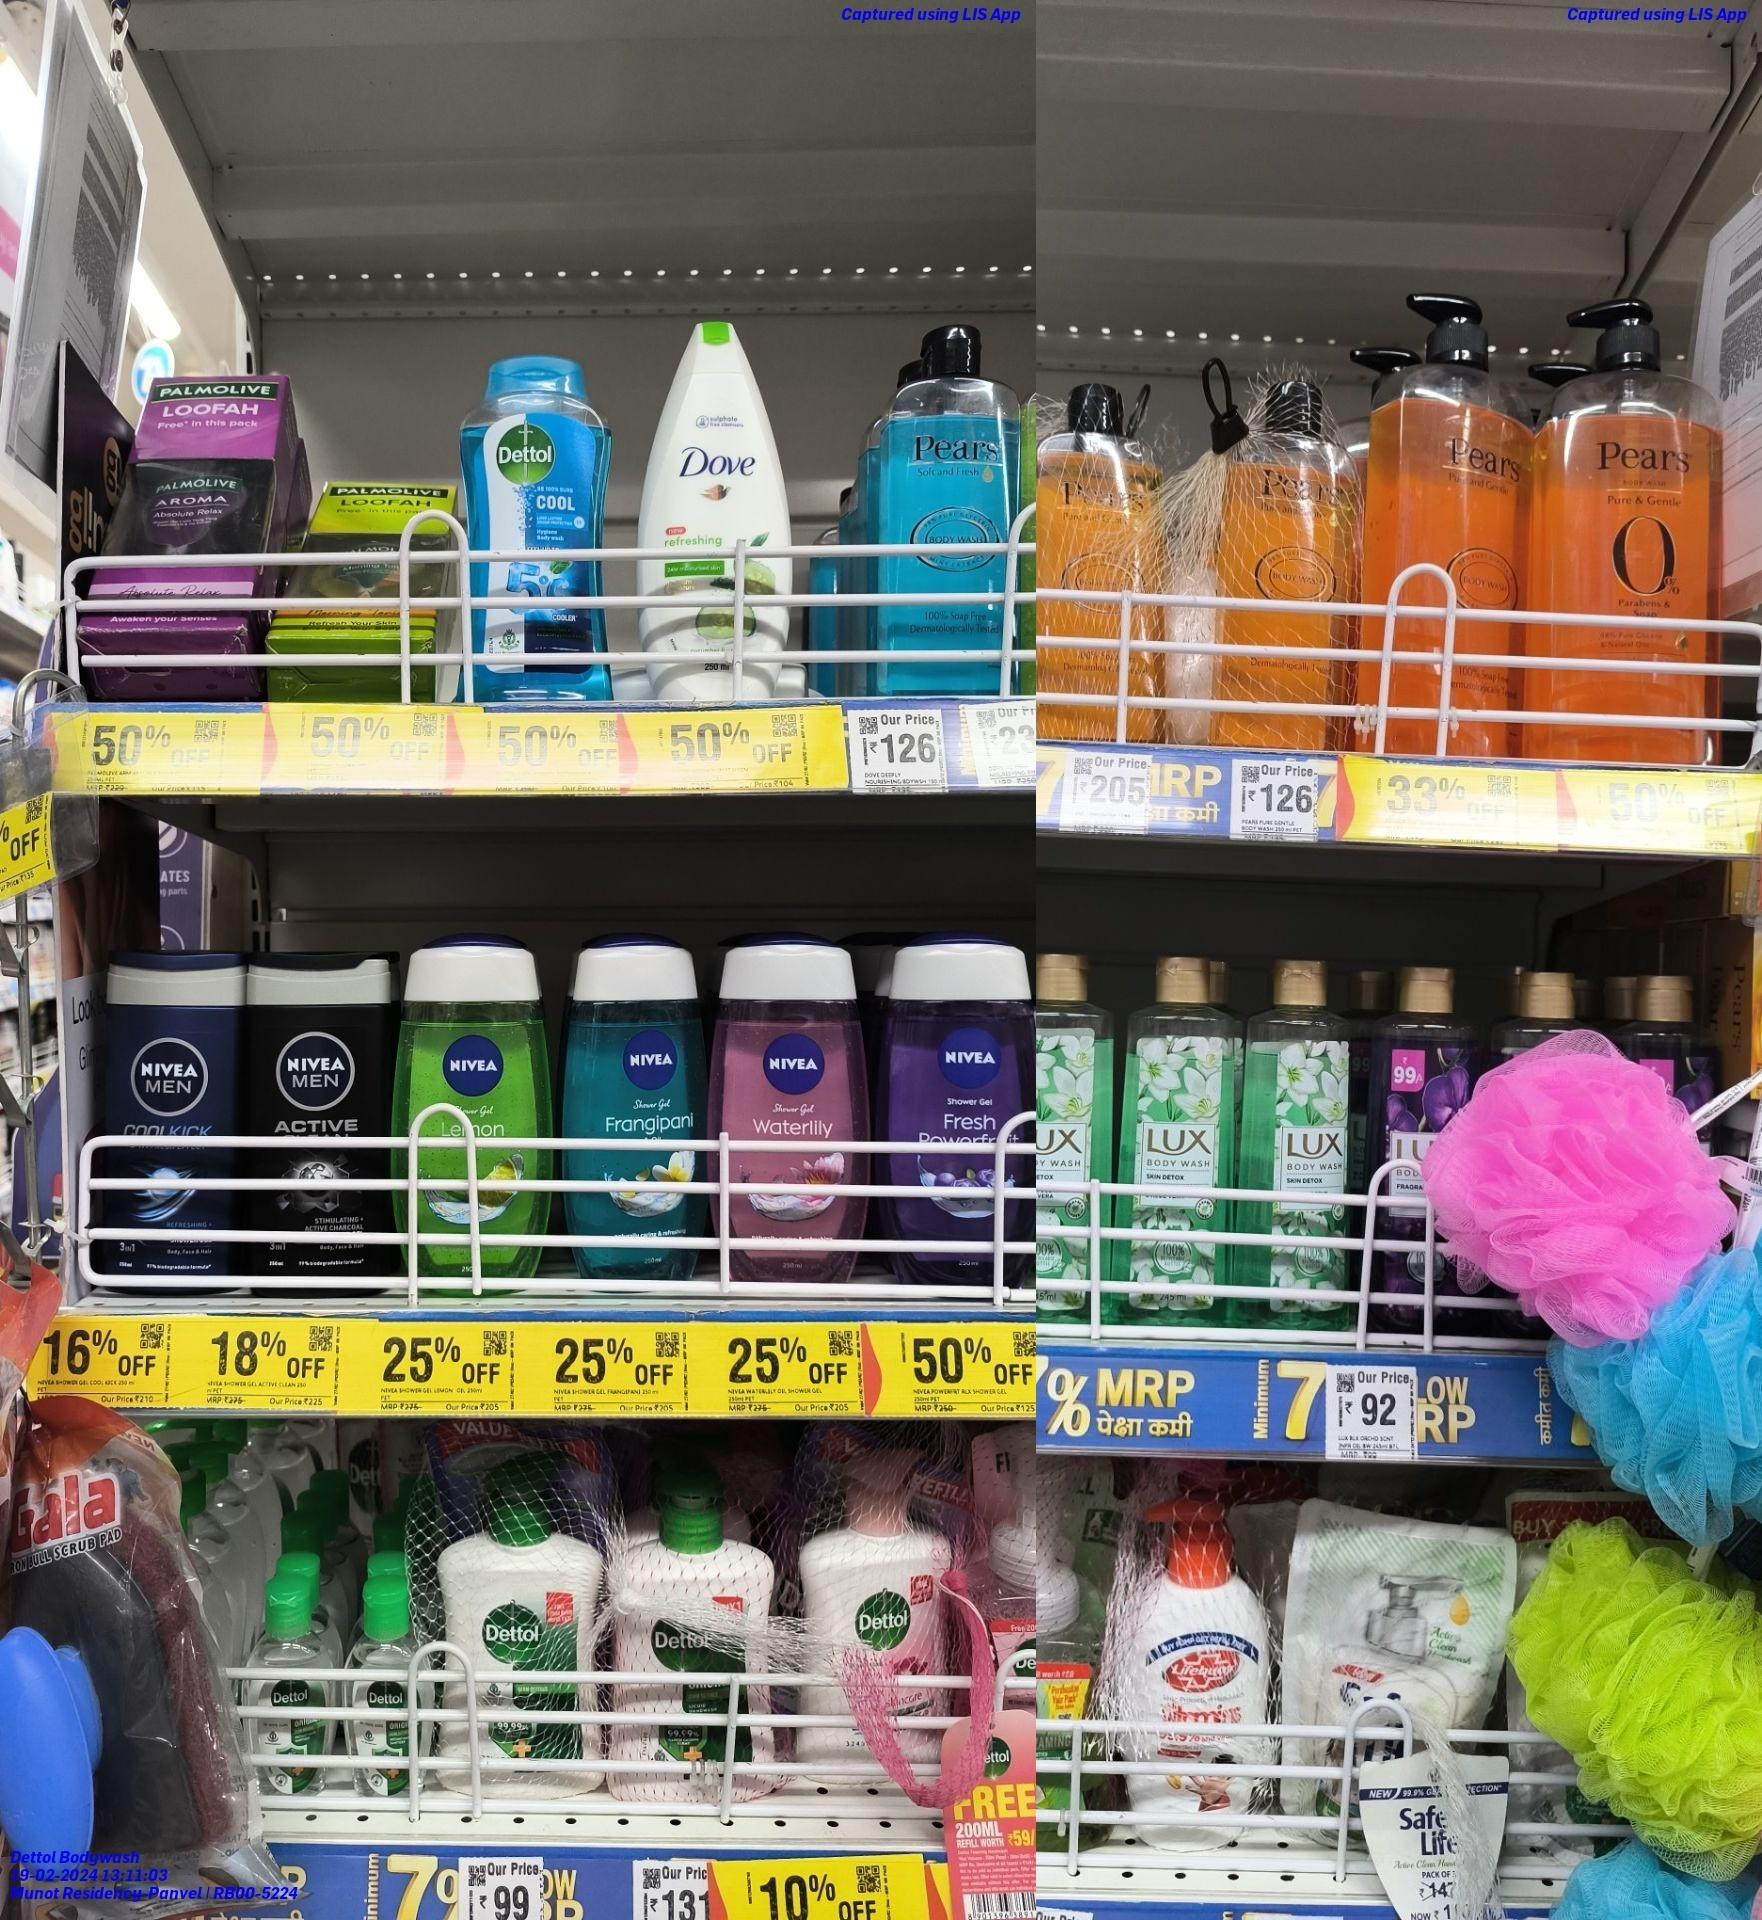Dettol_Bodywash_Cool: (470, 353, 607, 707)
Dove_Refreshing_Body_Wash_250ML: (647, 319, 787, 706)
Lux_Body_Wash_Skin_Detox_Freesia_Scent_and_Alove_Vera_245ML: (1108, 948, 1234, 1328), (1235, 948, 1352, 1333)
Nivea_Shower_Gel_Frangipani_and_Oil_250ML: (567, 938, 715, 1279)
Nivea_Shower_Gel_Fresh_Powerfruit_250ML: (878, 945, 1030, 1293)
Nivea_Shower_Gel_Lemon_and_Oil_250ML: (405, 930, 565, 1283)
Nivea_Shower_Gel_Waterlily_and_Oil_250ML: (722, 950, 873, 1283)
Pears_Pure_Glycerin_and_Mint_Extracts_Body_Wash_250ML: (879, 319, 1015, 691)
